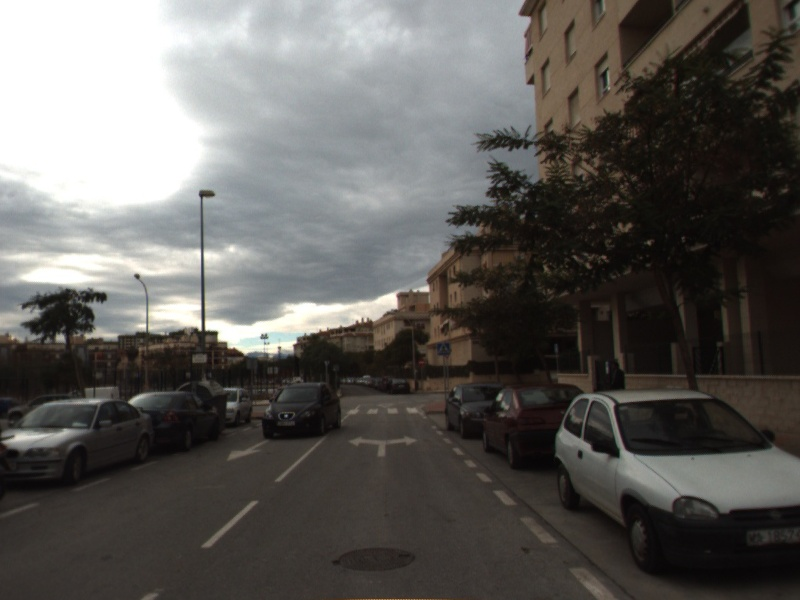LEFT_RIGHT: (346, 433, 420, 459)
